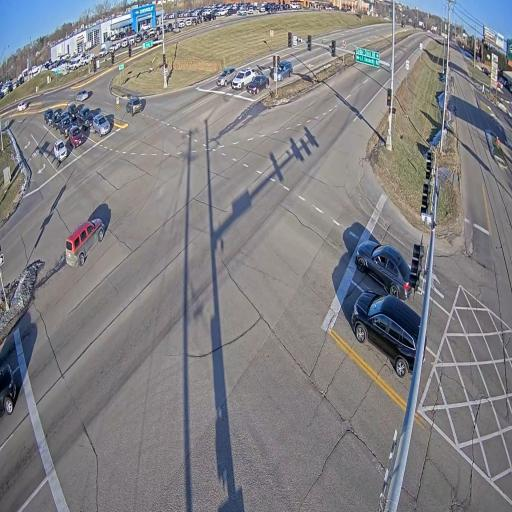pickup: (77, 107, 93, 130), (59, 115, 73, 138)
sedan: (354, 240, 411, 300), (246, 75, 270, 94), (54, 139, 68, 162), (77, 89, 89, 101), (18, 102, 27, 111)
suv: (351, 291, 420, 378), (65, 218, 106, 266), (0, 364, 16, 415), (232, 68, 256, 89), (270, 61, 293, 81), (93, 114, 111, 137), (69, 125, 85, 148), (216, 67, 235, 86), (126, 97, 142, 116), (67, 103, 79, 120), (44, 109, 53, 126), (53, 110, 61, 129)
